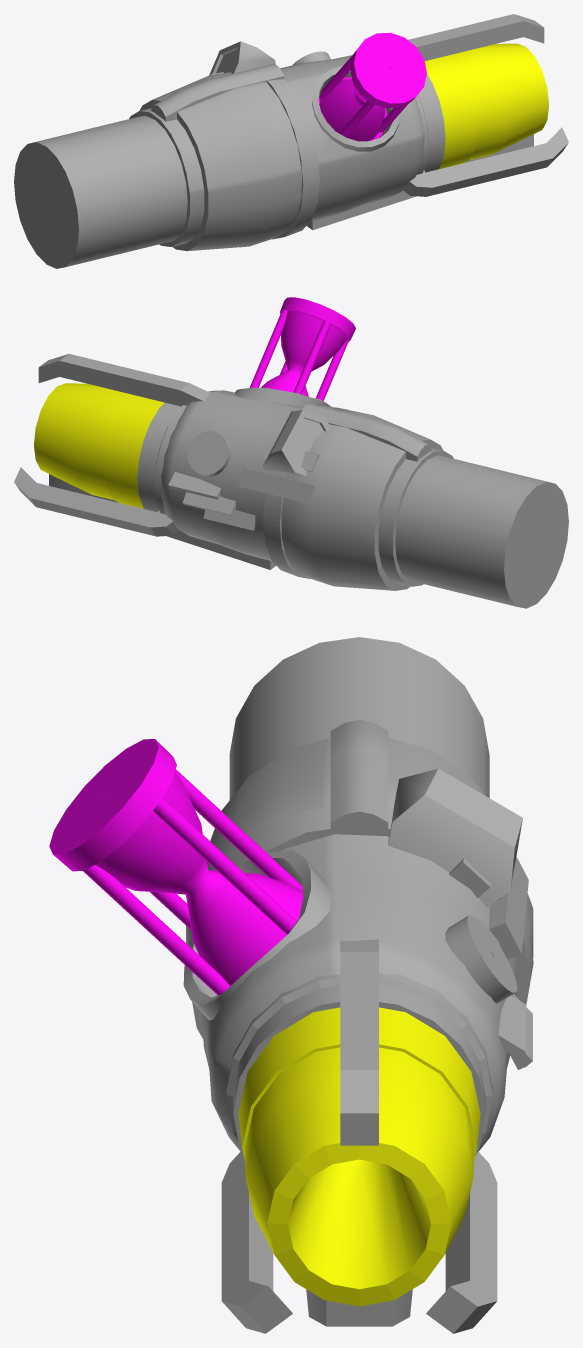
File: Player Blaster V2_4.fbx
The picture shows the model from 3 angles, top to bottom: view 1: azimuth 30°, elevation 25°; view 2: azimuth 150°, elevation 25°; view 3: azimuth 270°, elevation 25°; orthographic projection. The views are drawn at different scales.
Parts seen in each view (by area): view 1: Body_Base, Camera_Buffer, Barrel, Hourglass_Body, Claws_Bot, Barrel_Ring, Claw_Top, Body_Ring, Body_Acc_Top, Connector_Ring, Body_Holder, Body_Screen (+2 smaller); view 2: Body_Base, Camera_Buffer, Barrel, Hourglass_Body, Claw_Top, Body, Claws_Bot, Barrel_Ring, Connector_Ring, Body_Screen, Body_Acc_Top, Hourglass_Poles (+4 smaller); view 3: Barrel, Body_Base, Camera_Buffer, Hourglass_Body, Claws_Bot, Body_Screen, Connector_Ring, Hourglass_Poles, Barrel_Ring, Claw_Top, Body_Acc_Top, Body (+4 smaller).
Boxes of the visible parts, x1=… form: Body_Base: x1=129, y1=55, x2=424, y2=251; Camera_Buffer: x1=14, y1=115, x2=187, y2=268; Barrel: x1=450, y1=43, x2=548, y2=159; Hourglass_Body: x1=318, y1=32, x2=426, y2=141; Claws_Bot: x1=403, y1=127, x2=568, y2=196; Barrel_Ring: x1=384, y1=55, x2=477, y2=169; Claw_Top: x1=408, y1=14, x2=544, y2=60; Body_Ring: x1=267, y1=79, x2=319, y2=239; Body_Acc_Top: x1=151, y1=64, x2=284, y2=121; Connector_Ring: x1=379, y1=74, x2=445, y2=174; Body_Holder: x1=312, y1=66, x2=400, y2=151; Body_Screen: x1=209, y1=41, x2=275, y2=75; Body_Base: x1=161, y1=390, x2=453, y2=590; Camera_Buffer: x1=395, y1=455, x2=568, y2=608; Barrel: x1=34, y1=383, x2=132, y2=499; Hourglass_Body: x1=261, y1=297, x2=355, y2=396; Claw_Top: x1=38, y1=353, x2=210, y2=406; Body: x1=168, y1=442, x2=319, y2=530; Claws_Bot: x1=14, y1=467, x2=179, y2=536; Barrel_Ring: x1=105, y1=395, x2=164, y2=508; Connector_Ring: x1=137, y1=402, x2=186, y2=514; Body_Screen: x1=262, y1=410, x2=330, y2=475; Body_Acc_Top: x1=302, y1=403, x2=431, y2=461; Hourglass_Poles: x1=249, y1=309, x2=347, y2=400; Barrel: x1=245, y1=1047, x2=473, y2=1306; Body_Base: x1=186, y1=737, x2=533, y2=1151; Camera_Buffer: x1=229, y1=637, x2=489, y2=799; Hourglass_Body: x1=49, y1=739, x2=303, y2=995; Claws_Bot: x1=221, y1=1151, x2=497, y2=1333; Body_Screen: x1=388, y1=768, x2=522, y2=907; Connector_Ring: x1=226, y1=973, x2=492, y2=1156; Hourglass_Poles: x1=83, y1=769, x2=302, y2=995; Barrel_Ring: x1=238, y1=1007, x2=480, y2=1161; Claw_Top: x1=340, y1=939, x2=378, y2=1145; Body_Acc_Top: x1=330, y1=720, x2=388, y2=836; Body: x1=449, y1=856, x2=532, y2=1069.
Size of the model in its own units: 482 by 206 by 205.
